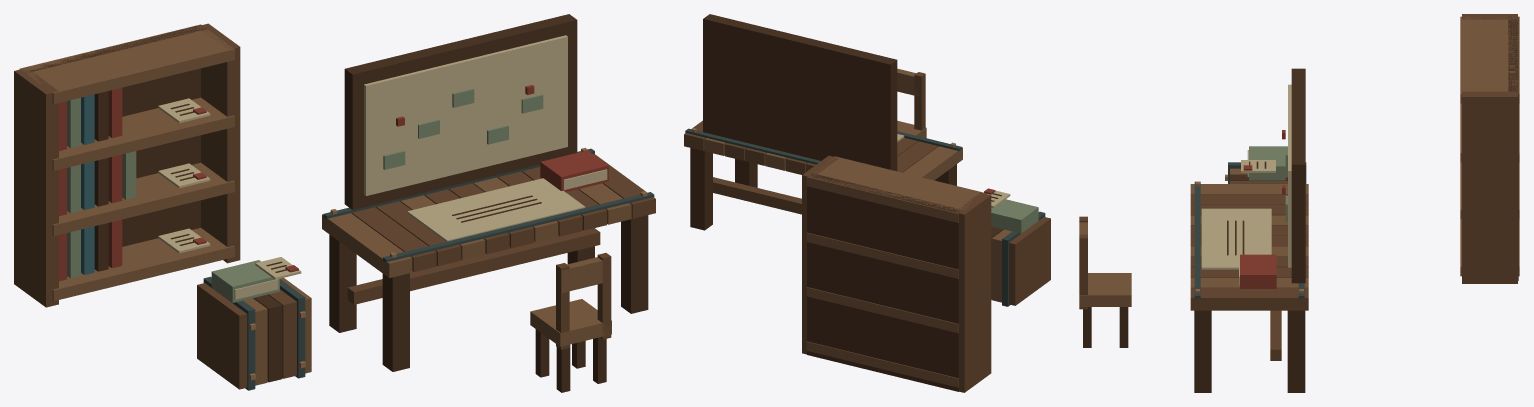
The model's file is B23_information.glb.
The picture shows the model from 3 angles, left to right: view 1: azimuth 30°, elevation 25°; view 2: azimuth 150°, elevation 25°; view 3: azimuth 270°, elevation 25°; orthographic projection. The views are drawn at different scales.
Visible parts, largest first — view 1: B23_information__main_station_Map_paper, B23_information__archive_ShelfBoard_woodlight, B23_information__archive_ShelfUpright_wood, B23_information__main_station_MapBoard_wooddark, B23_information__main_station_TableLegs_wooddark, B23_information__main_station_TableTop_wood, B23_information__archive_ShelfBack_wooddark, B23_information__main_station_Paper_paper, B23_information__record_box_CratePlanks_wood, B23_information__main_station_TableTop_woodlight, B23_information__main_station_TableRail_wood, B23_information__archive_BookCover_red (+16 smaller); view 2: B23_information__main_station_MapBoard_wooddark, B23_information__archive_ShelfBack_wooddark, B23_information__archive_ShelfBoard_woodlight, B23_information__archive_ShelfUpright_wood, B23_information__record_box_CratePlanks_wood, B23_information__main_station_TableLegs_wooddark, B23_information__main_station_TableTop_wood, B23_information__main_station_TableTop_woodlight, B23_information__main_station_TableRail_wood, B23_information__record_box_BookCover_cloth, B23_information__main_station_TableBands_iron, B23_information__record_box_CratePlanks_woodlight (+3 smaller); view 3: B23_information__archive_ShelfUpright_wood, B23_information__main_station_TableTop_wood, B23_information__archive_ShelfBoard_woodlight, B23_information__main_station_Paper_paper, B23_information__main_station_MapBoard_wooddark, B23_information__main_station_TableLegs_wooddark, B23_information__main_station_TableTop_woodlight, B23_information__reader_Seat_woodlight, B23_information__main_station_BookCover_red, B23_information__archive_ShelfBack_wooddark, B23_information__record_box_BookCover_cloth, B23_information__main_station_TableBands_iron (+5 smaller).
Boxes of the visible parts, x1=… form: B23_information__main_station_Map_paper: x1=364, y1=35, x2=567, y2=195; B23_information__archive_ShelfBoard_woodlight: x1=19, y1=24, x2=234, y2=301; B23_information__archive_ShelfUpright_wood: x1=14, y1=23, x2=240, y2=307; B23_information__main_station_MapBoard_wooddark: x1=344, y1=14, x2=577, y2=209; B23_information__main_station_TableLegs_wooddark: x1=329, y1=215, x2=648, y2=371; B23_information__main_station_TableTop_wood: x1=352, y1=154, x2=655, y2=272; B23_information__archive_ShelfBack_wooddark: x1=25, y1=25, x2=206, y2=246; B23_information__main_station_Paper_paper: x1=407, y1=178, x2=585, y2=241; B23_information__record_box_CratePlanks_wood: x1=197, y1=283, x2=296, y2=389; B23_information__main_station_TableTop_woodlight: x1=322, y1=177, x2=631, y2=277; B23_information__main_station_TableRail_wood: x1=347, y1=228, x2=600, y2=304; B23_information__archive_BookCover_red: x1=59, y1=87, x2=122, y2=281; B23_information__main_station_MapBoard_wooddark: x1=703, y1=14, x2=897, y2=171; B23_information__archive_ShelfBack_wooddark: x1=807, y1=173, x2=961, y2=391; B23_information__archive_ShelfBoard_woodlight: x1=806, y1=156, x2=986, y2=387; B23_information__archive_ShelfUpright_wood: x1=802, y1=155, x2=991, y2=392; B23_information__record_box_CratePlanks_wood: x1=1009, y1=217, x2=1050, y2=305; B23_information__main_station_TableLegs_wooddark: x1=690, y1=148, x2=956, y2=230; B23_information__main_station_TableTop_wood: x1=684, y1=120, x2=937, y2=174; B23_information__main_station_TableTop_woodlight: x1=704, y1=138, x2=962, y2=180; B23_information__main_station_TableRail_wood: x1=713, y1=177, x2=801, y2=214; B23_information__record_box_BookCover_cloth: x1=991, y1=199, x2=1038, y2=233; B23_information__main_station_TableBands_iron: x1=685, y1=128, x2=961, y2=164; B23_information__record_box_CratePlanks_woodlight: x1=991, y1=229, x2=1011, y2=302; B23_information__archive_ShelfUpright_wood: x1=1462, y1=14, x2=1517, y2=283; B23_information__main_station_TableTop_wood: x1=1190, y1=194, x2=1308, y2=310; B23_information__archive_ShelfBoard_woodlight: x1=1460, y1=16, x2=1519, y2=276; B23_information__main_station_Paper_paper: x1=1201, y1=208, x2=1271, y2=269; B23_information__main_station_MapBoard_wooddark: x1=1291, y1=68, x2=1305, y2=283; B23_information__main_station_TableLegs_wooddark: x1=1194, y1=310, x2=1305, y2=392; B23_information__main_station_TableTop_woodlight: x1=1190, y1=184, x2=1308, y2=287; B23_information__reader_Seat_woodlight: x1=1079, y1=273, x2=1131, y2=306; B23_information__main_station_BookCover_red: x1=1240, y1=254, x2=1276, y2=288; B23_information__archive_ShelfBack_wooddark: x1=1508, y1=16, x2=1518, y2=280; B23_information__record_box_BookCover_cloth: x1=1249, y1=146, x2=1285, y2=180; B23_information__main_station_TableBands_iron: x1=1194, y1=181, x2=1304, y2=298.
Size of the model in its own units: 5.27 by 2.82 by 5.04.
